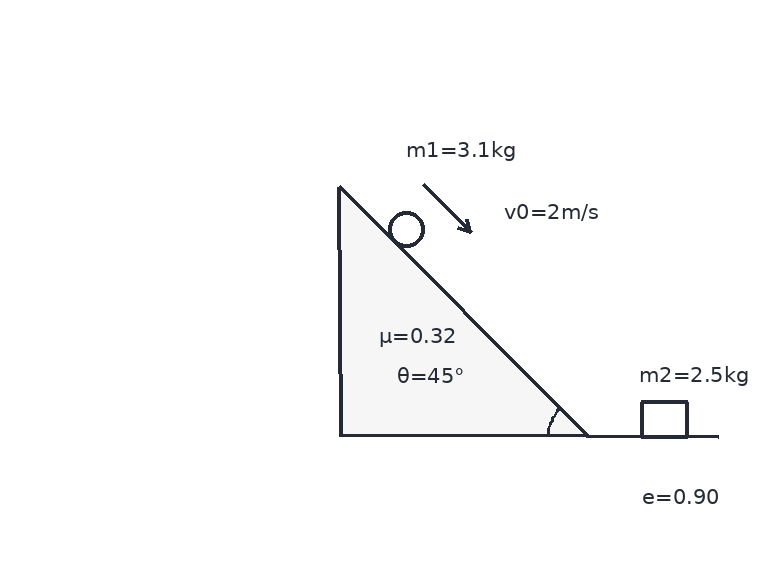ball: (386, 209, 426, 249)
block: (639, 400, 689, 438)
ramp: (338, 186, 590, 438)
